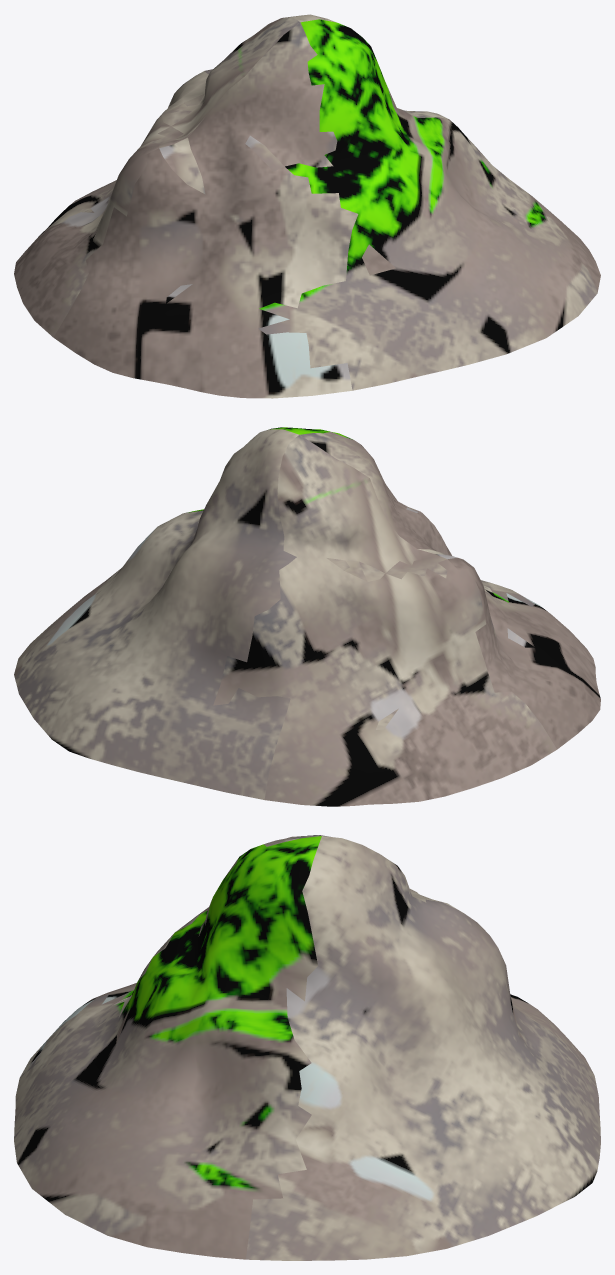
File: Mountain-2.fbx
The picture shows the model from 3 angles, top to bottom: view 1: azimuth 30°, elevation 25°; view 2: azimuth 150°, elevation 25°; view 3: azimuth 270°, elevation 25°; orthographic projection. The views are drawn at different scales.
Visible parts, largest first — view 1: Mountain-2; view 2: Mountain-2; view 3: Mountain-2.
Part boxes in pixels (x1,y1,x2,y2): Mountain-2: (14,14,600,398); Mountain-2: (14,427,600,806); Mountain-2: (14,835,600,1260).
Bounding box in the file's own units: 26.27 × 12.67 × 23.49.
